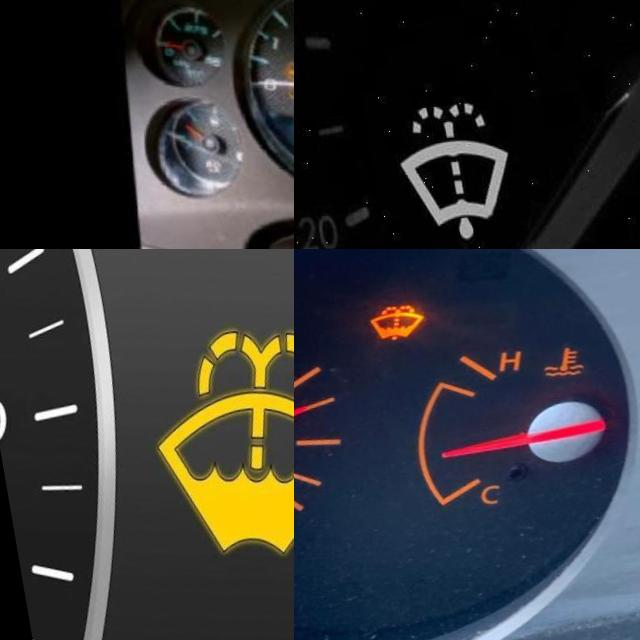High Engine Coolant Temperature: (526, 352, 581, 390)
Washer Fluid: (129, 327, 294, 569), (379, 102, 511, 249)
